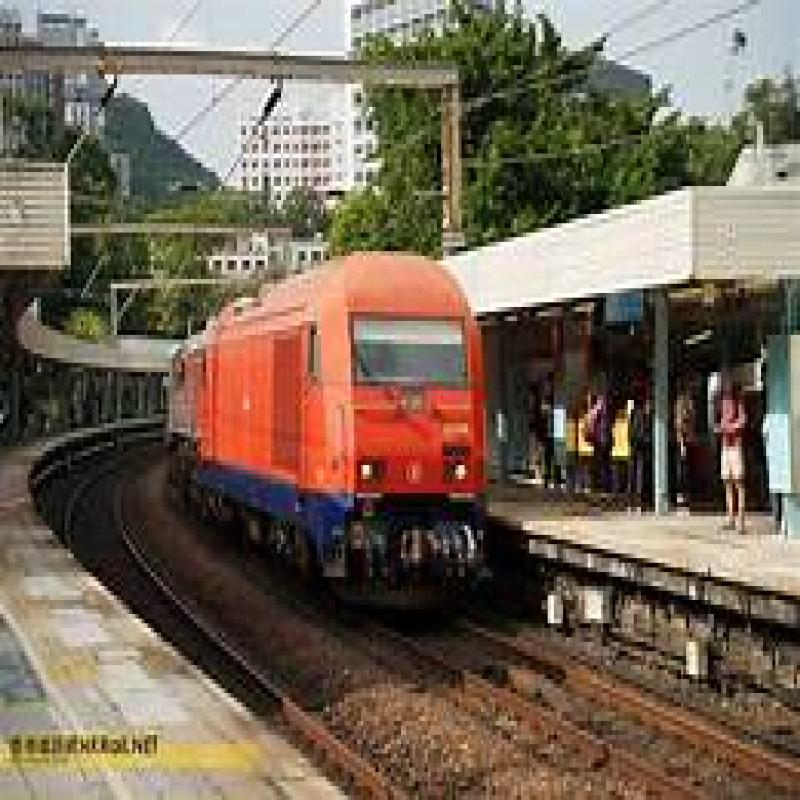train: (155, 266, 469, 638)
